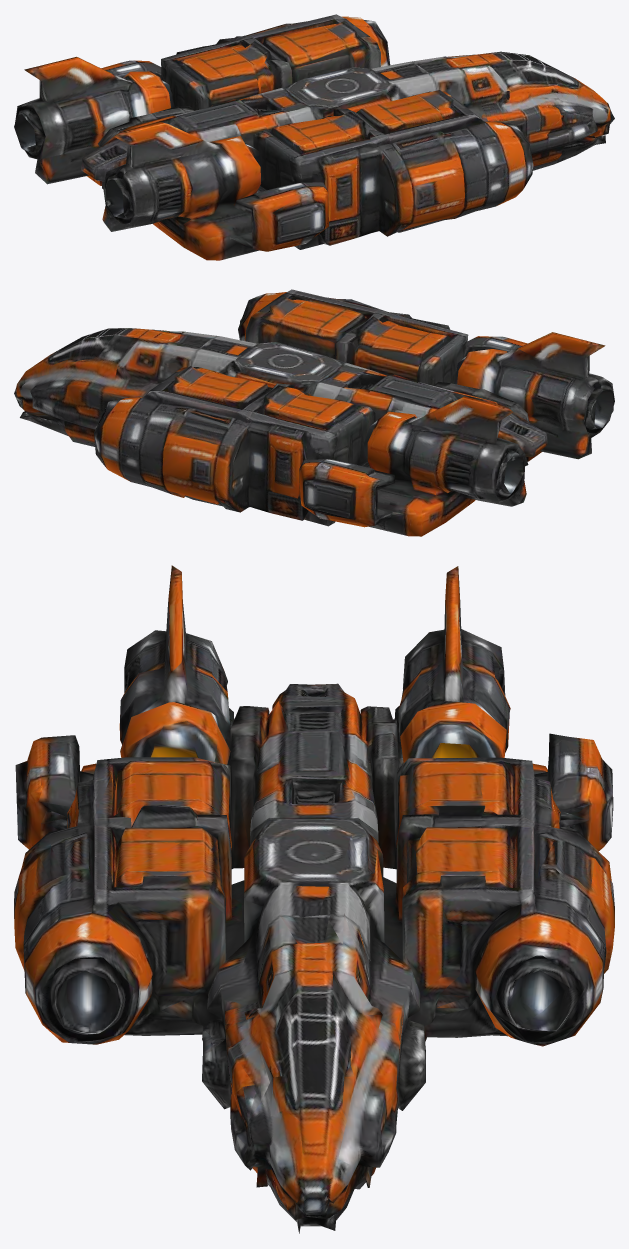
File: wayfarer.glb
3 views of the same model, one above another, from view 1: azimuth 30°, elevation 25°; view 2: azimuth 150°, elevation 25°; view 3: azimuth 270°, elevation 25° (orthographic). The views are drawn at different scales.
Parts seen in each view (by area): view 1: tripo_node_e6e56bba-f139-4763-910e-696fea13da8b; view 2: tripo_node_e6e56bba-f139-4763-910e-696fea13da8b; view 3: tripo_node_e6e56bba-f139-4763-910e-696fea13da8b.
Part boxes in pixels (x1,y1,x2,y2): tripo_node_e6e56bba-f139-4763-910e-696fea13da8b: [14, 14, 614, 260]; tripo_node_e6e56bba-f139-4763-910e-696fea13da8b: [14, 289, 614, 536]; tripo_node_e6e56bba-f139-4763-910e-696fea13da8b: [14, 565, 614, 1233].
Size of the model in its own units: 0.9847 by 0.2905 by 0.6002.
Materials: 1 (1 with a texture image).
